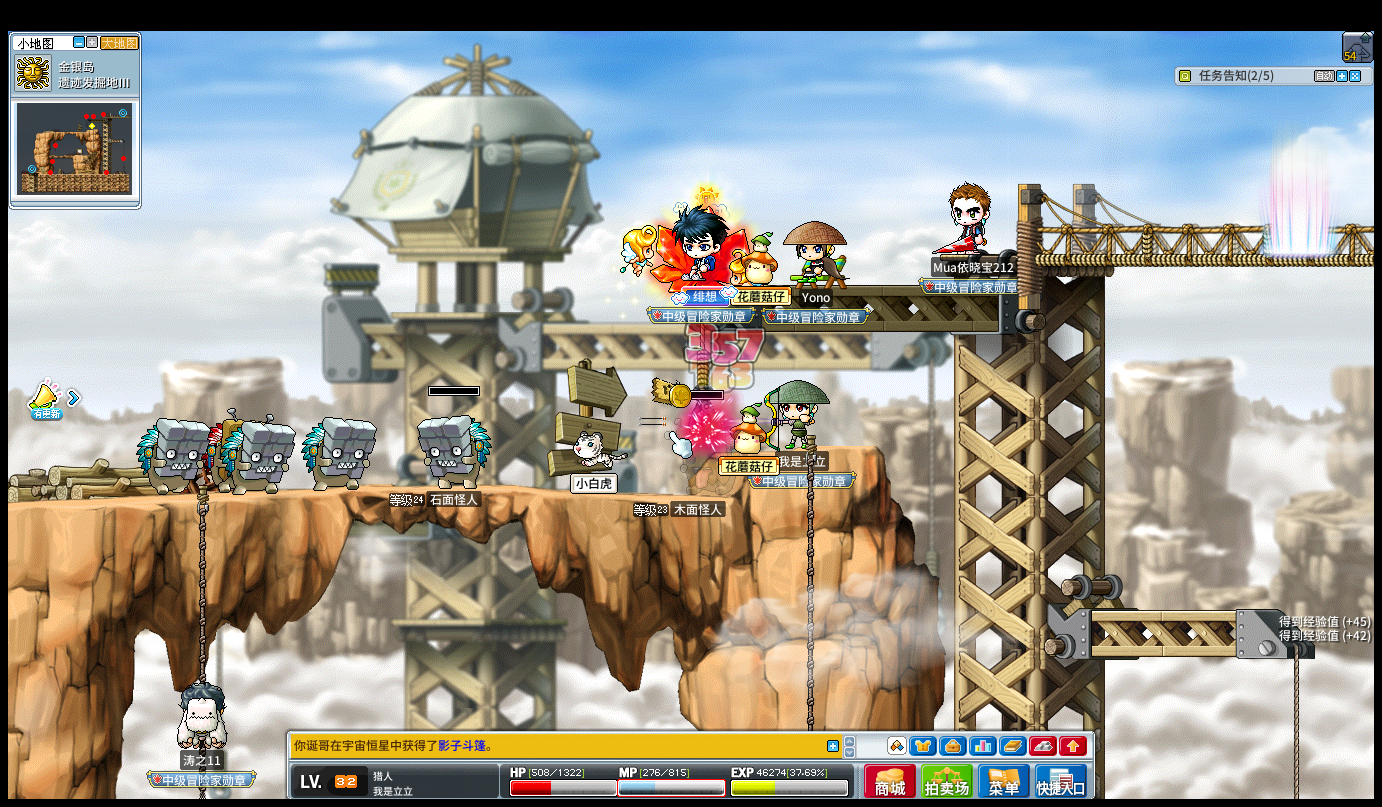floor: (9, 480, 775, 506), (21, 481, 781, 499), (1090, 606, 1290, 620)
monster: (218, 417, 294, 496), (135, 417, 209, 497), (301, 416, 378, 492), (417, 414, 492, 488)
rope: (802, 456, 817, 724), (196, 481, 209, 690), (1288, 650, 1303, 788)
